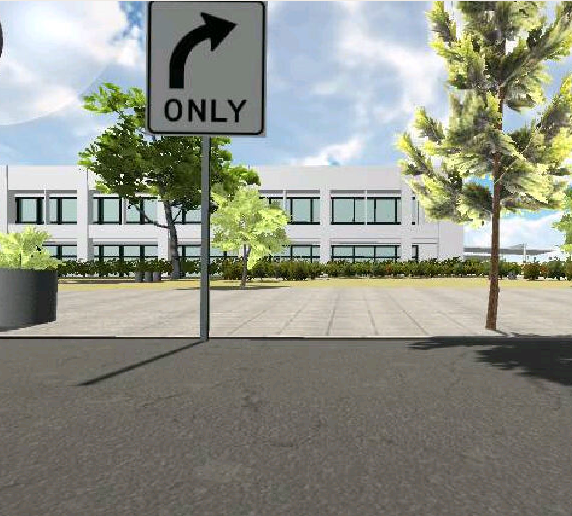arrow_right: (165, 8, 250, 89)
